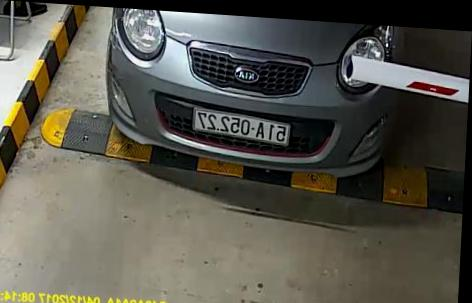License_Plate: (190, 109, 295, 145)
